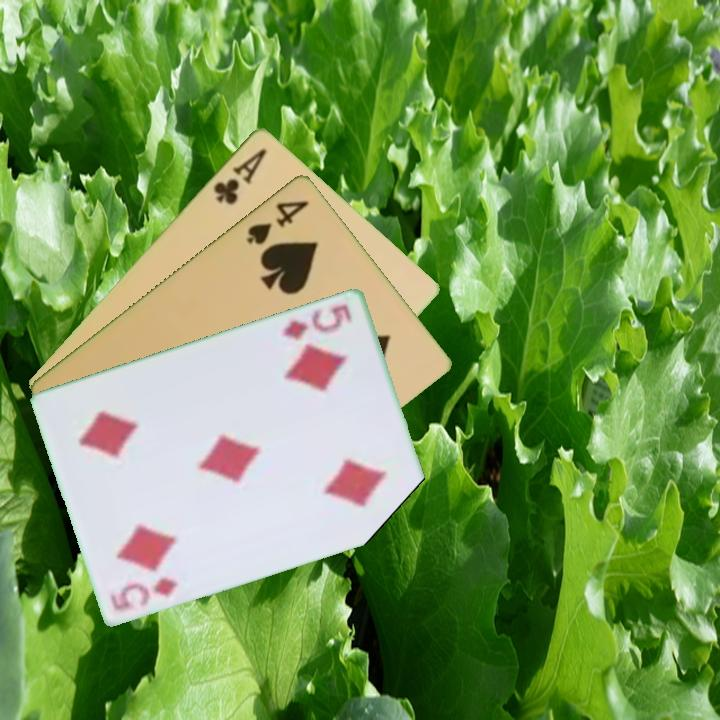4s: (243, 196, 312, 247)
5d: (279, 300, 356, 343), (107, 573, 181, 614)
Ac: (209, 144, 270, 208)
